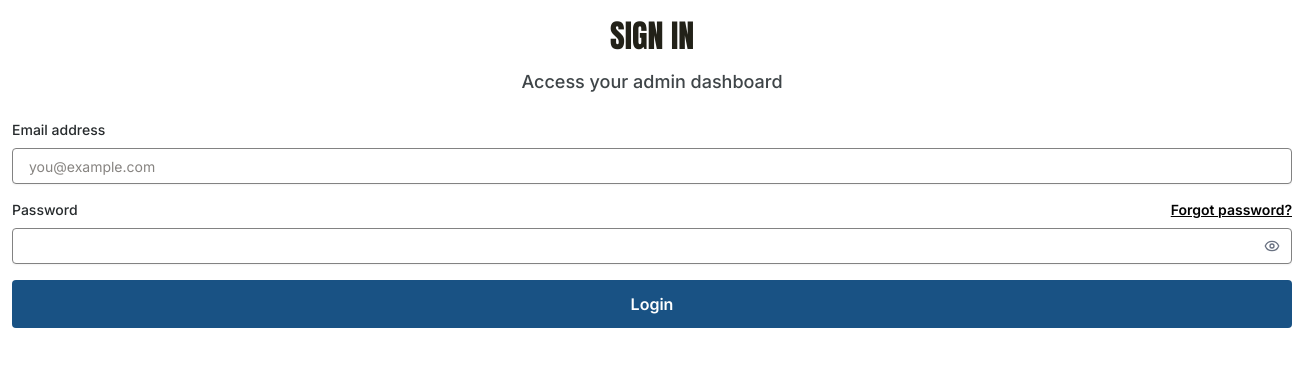
Test case: LoginFormState › shows error when email is empty
Type "password123" into the password field labelled "Password" at (652, 246), box [12,228,1292,264]
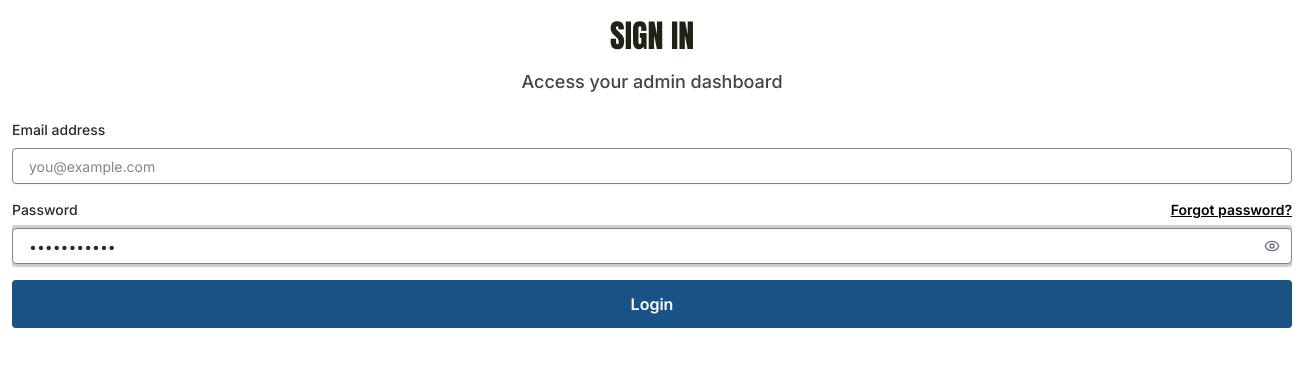
Click the button "Login" at (652, 304), box [12,280,1292,328]
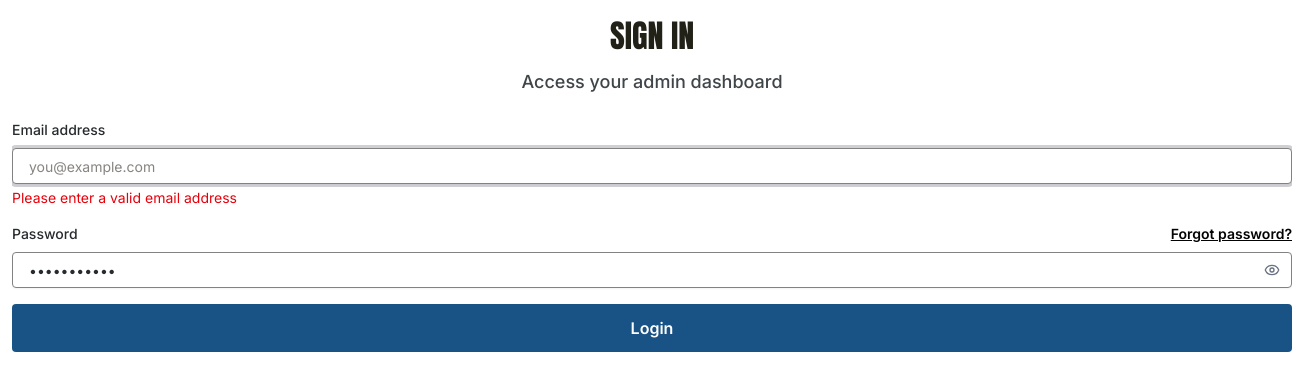
Result: the text "Please enter a valid email address" is shown at [12,189,237,206]
